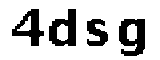4: (6, 5, 45, 50)
d: (46, 6, 81, 53)
g: (117, 15, 149, 60)
s: (84, 17, 113, 51)
